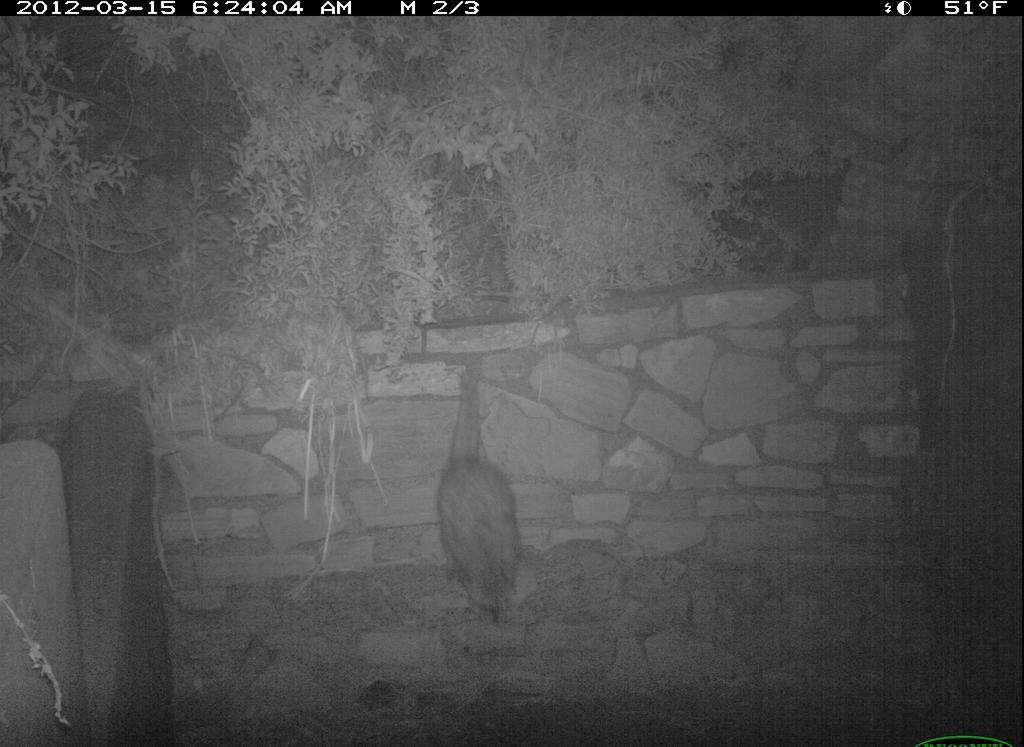raccoon: (431, 359, 527, 625)
